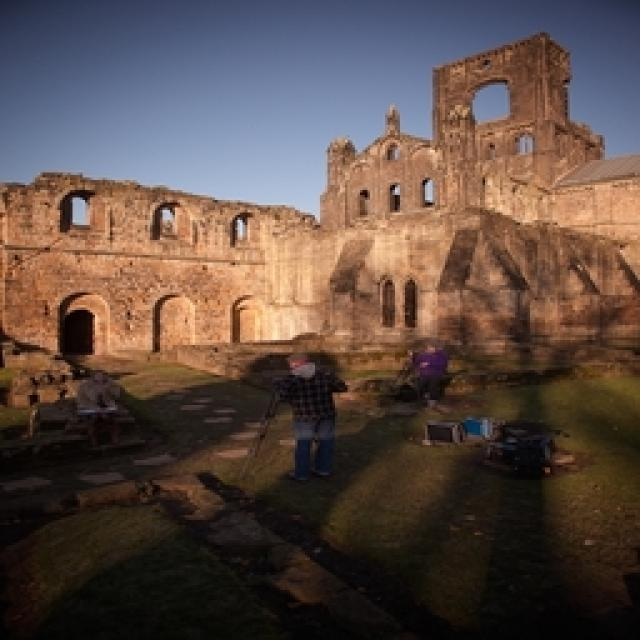Abbey: (1, 66, 640, 358)
